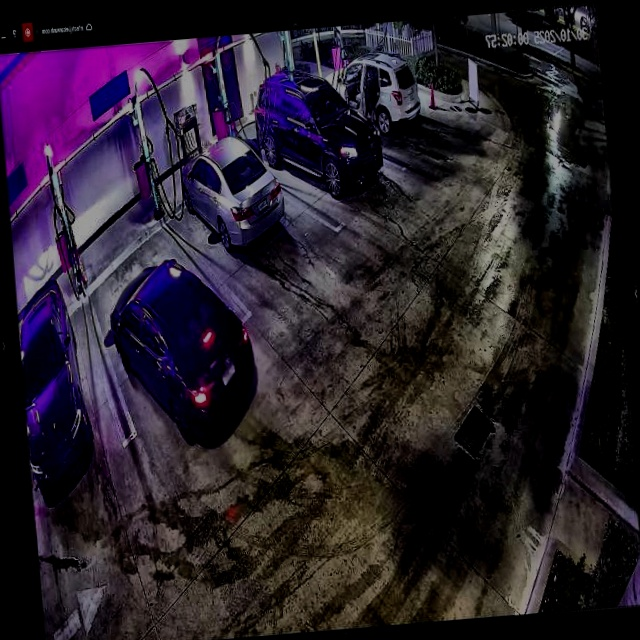Car: (104, 256, 259, 453), (253, 63, 384, 187), (176, 139, 285, 256), (321, 52, 418, 148)
